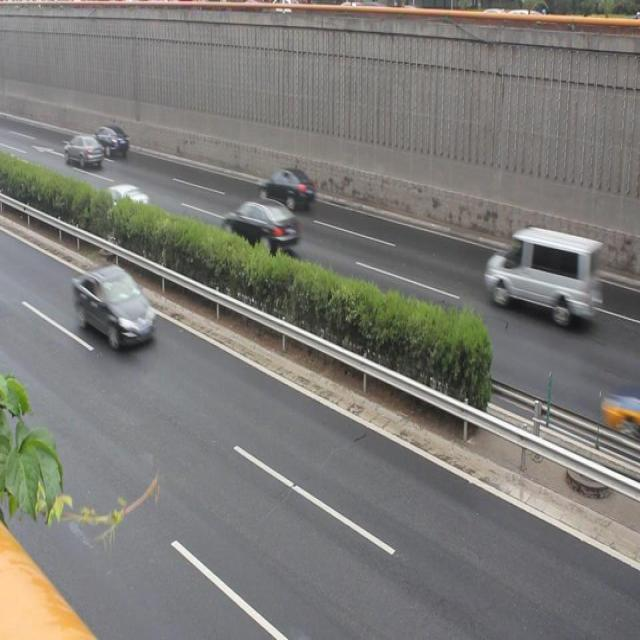car: (70, 260, 154, 352), (223, 193, 296, 259), (593, 369, 640, 452), (252, 166, 318, 213), (102, 177, 149, 222), (60, 134, 106, 171), (91, 120, 130, 158)
truck: (489, 220, 604, 324)
